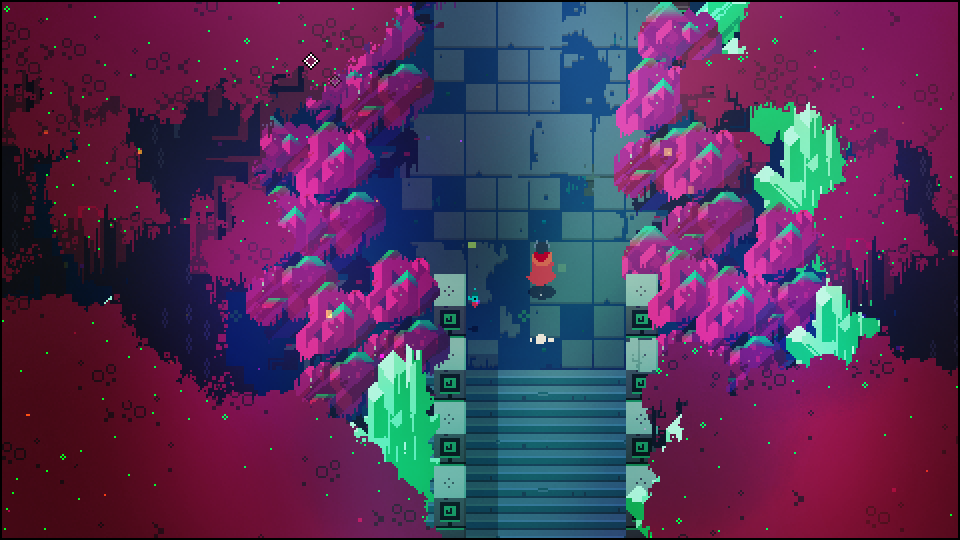player: (524, 239, 554, 302)
